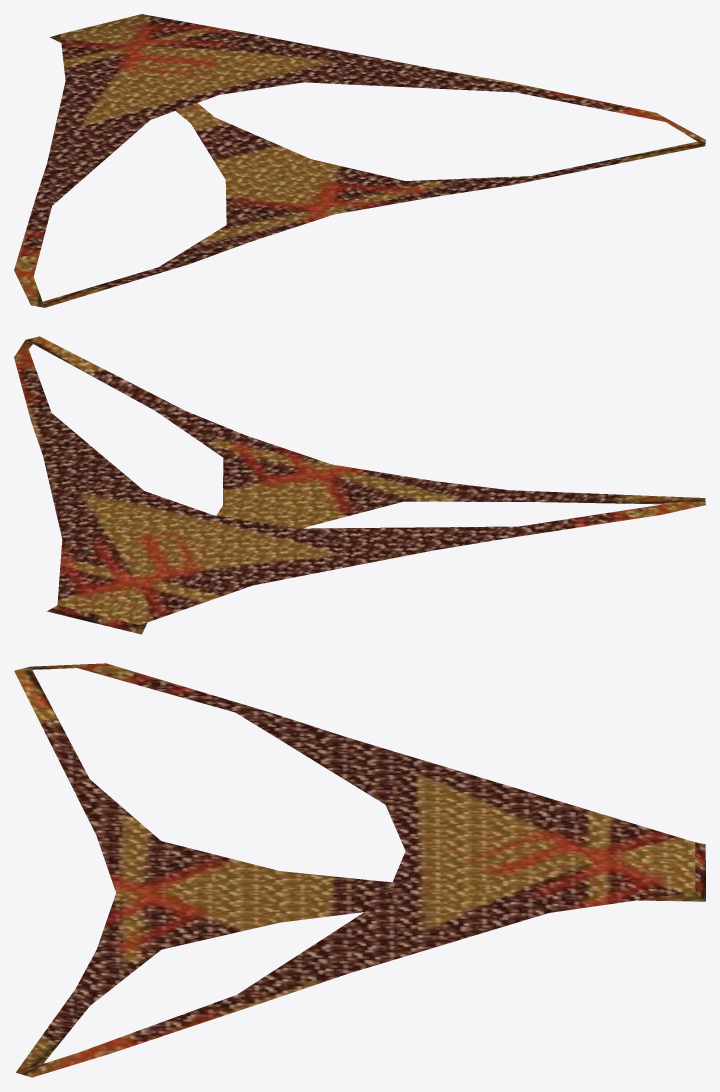
The model's file is thong.gltf.
3 renders of one model, top to bottom at view 1: azimuth 30°, elevation 25°; view 2: azimuth 150°, elevation 25°; view 3: azimuth 270°, elevation 25°, orthographic. The views are drawn at different scales.
Parts seen in each view (by area): view 1: Thong, back; view 2: Thong, back; view 3: Thong, back.
Part boxes in pixels (x1,y1,x2,y2): Thong: (14, 14, 705, 307); back: (43, 14, 704, 307); Thong: (14, 336, 705, 634); back: (33, 336, 703, 633); Thong: (15, 663, 705, 1077); back: (14, 670, 705, 1072).
Size of the model in its own units: 0.3532 by 0.0187 by 0.2514.
Materials: 2 (2 with a texture image).
